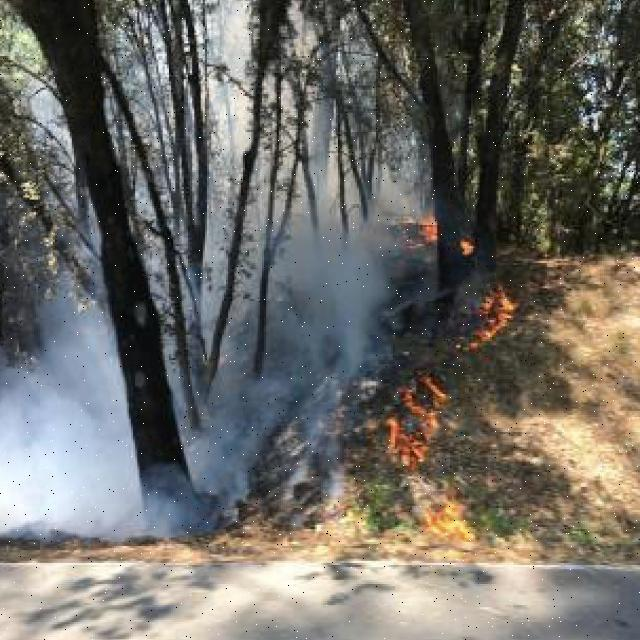fire: (382, 375, 473, 544), (456, 276, 522, 354), (414, 217, 446, 246)
smoke: (209, 206, 391, 548), (0, 269, 207, 542)
